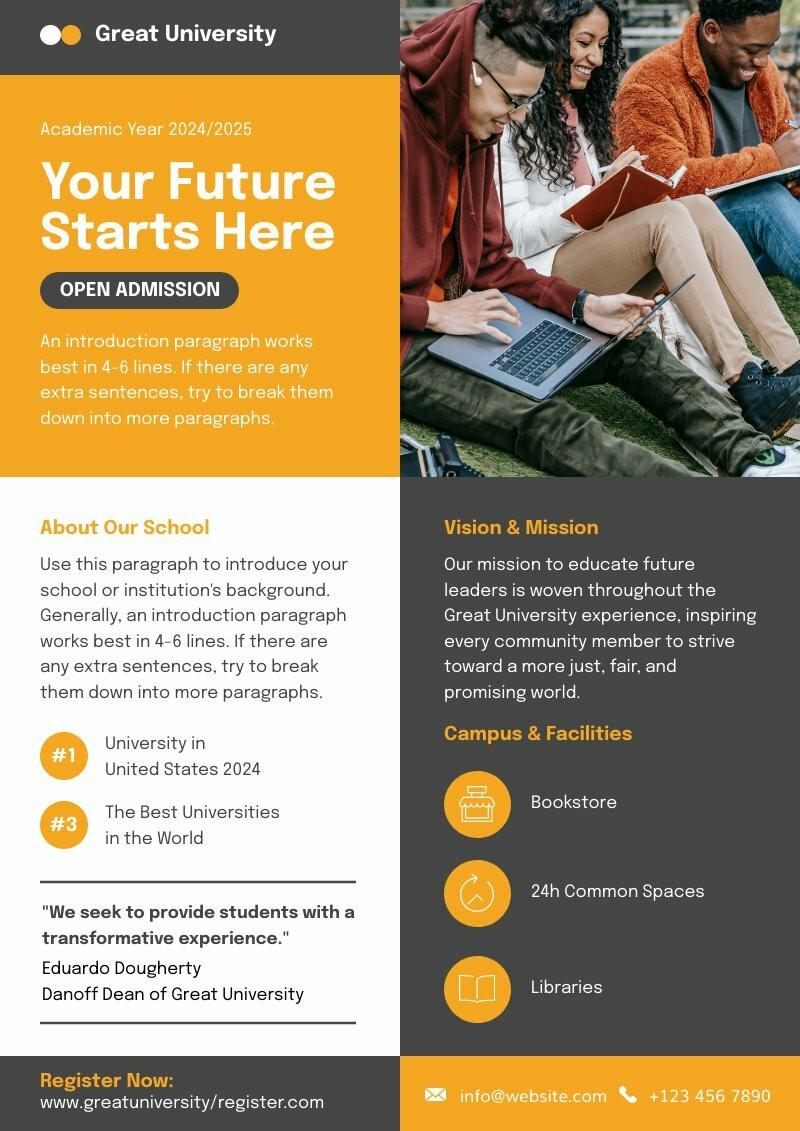paper: (2, 0, 800, 1130)
